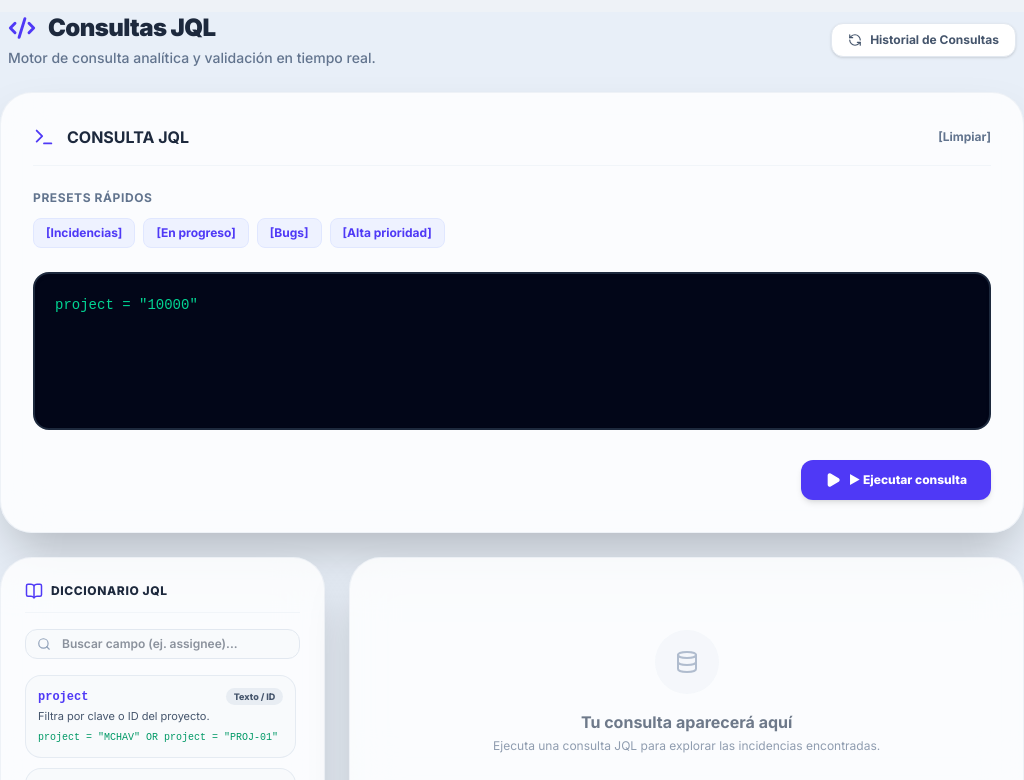
Test: JqlConsultasView › shows error if empty query submitted
Click the button "[Limpiar]" at (965, 137), box [938, 129, 991, 145]
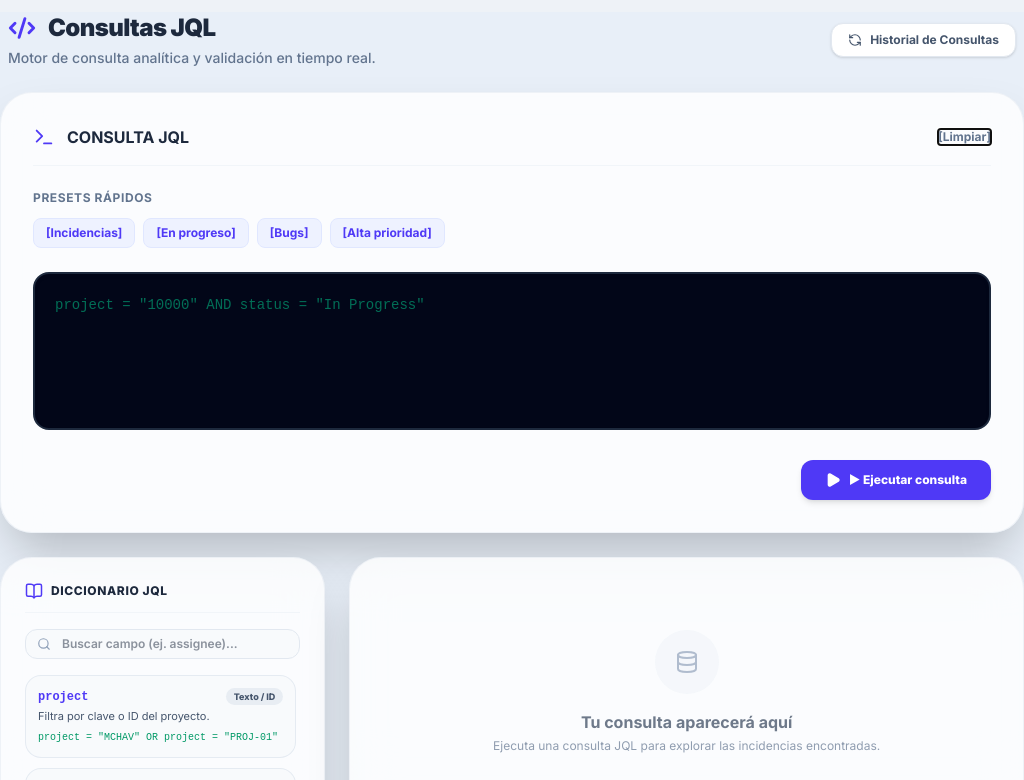
Click the button "▶ Ejecutar consulta" at (896, 480), box [801, 460, 991, 500]
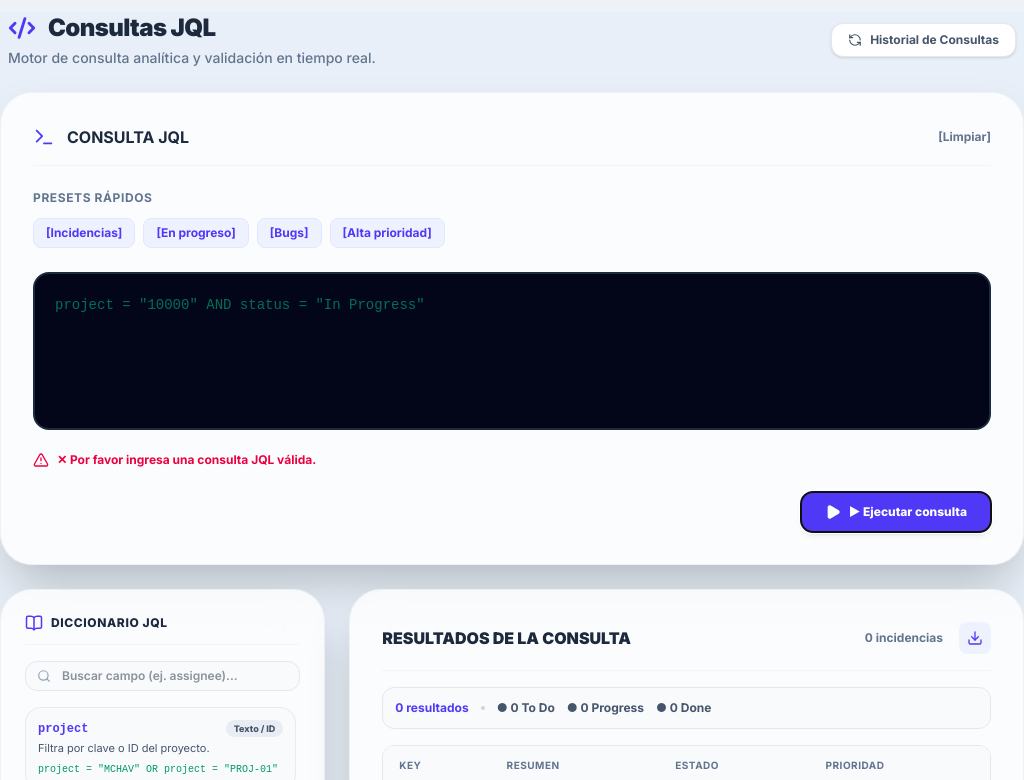
Expected: the text "✕ Por favor ingresa una consulta JQL válida." is shown, [33, 452, 316, 468]
